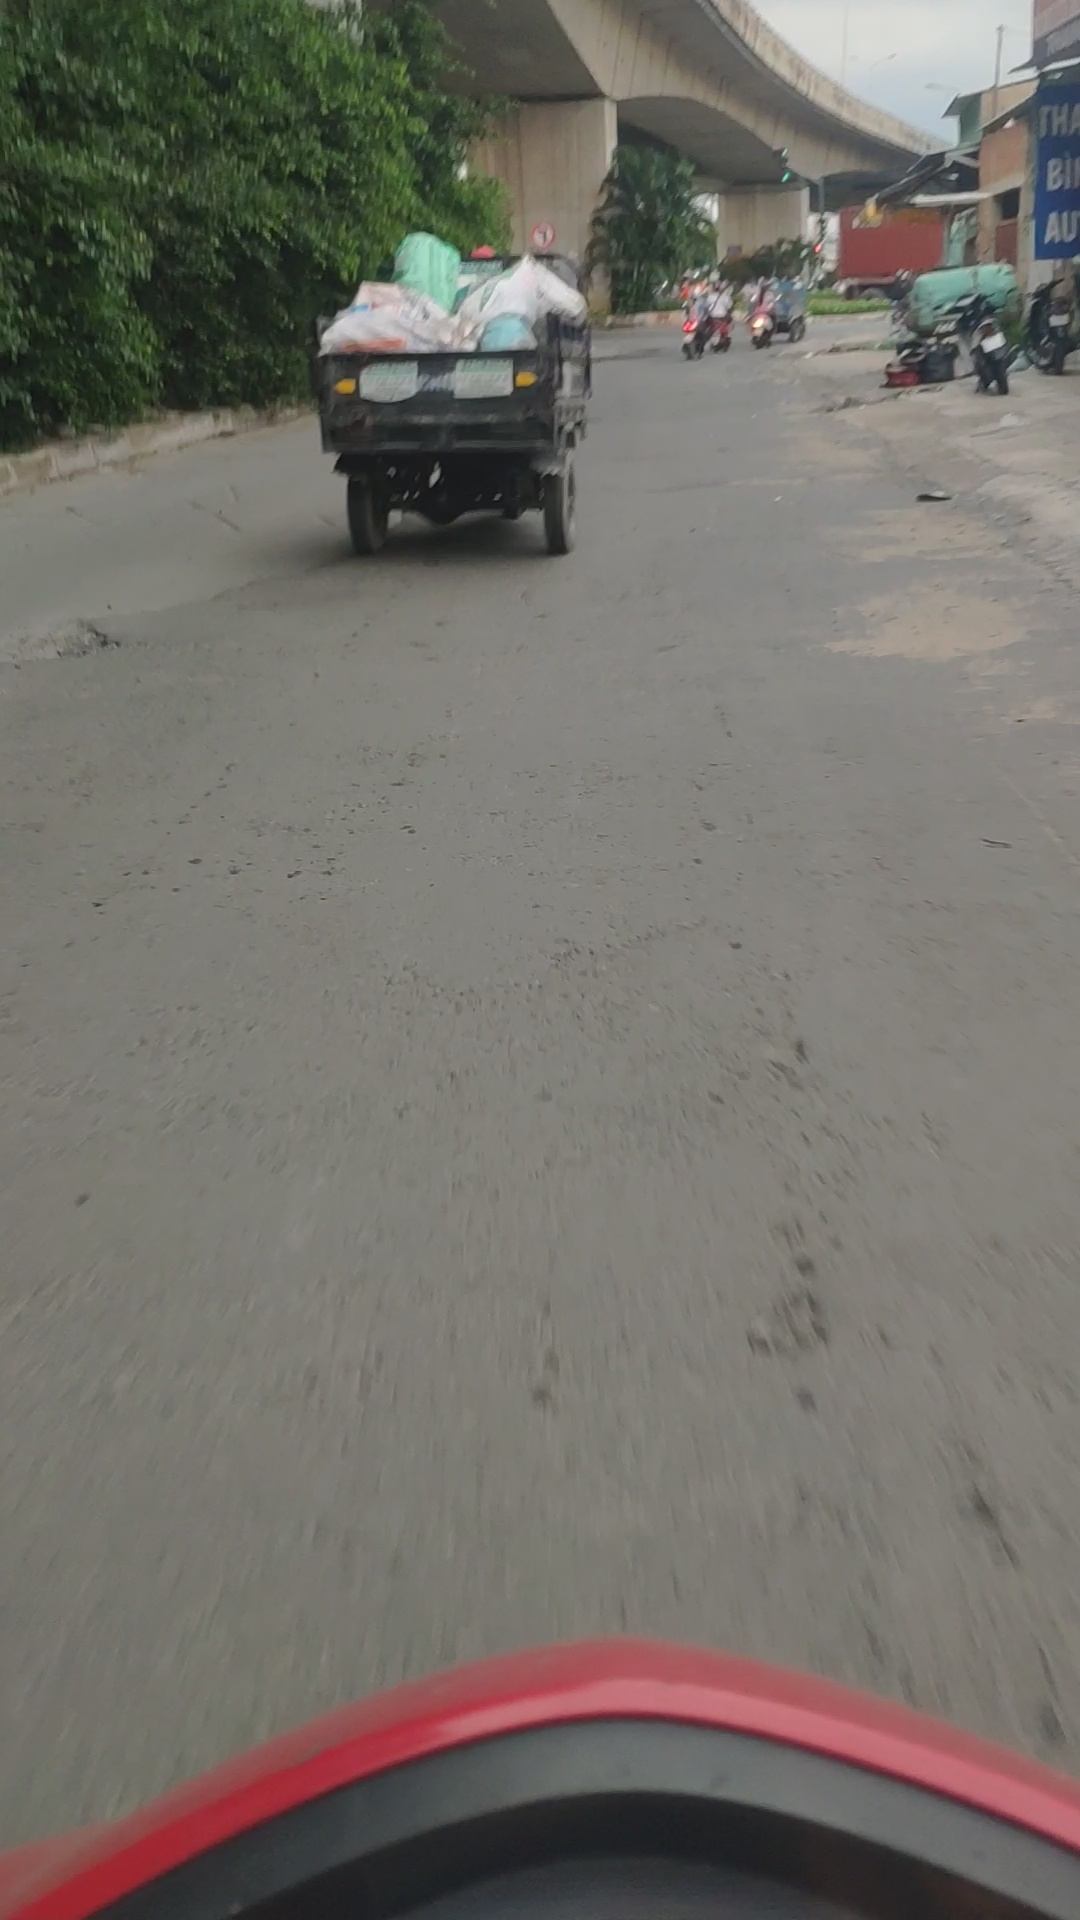hole: (1, 607, 133, 680)
